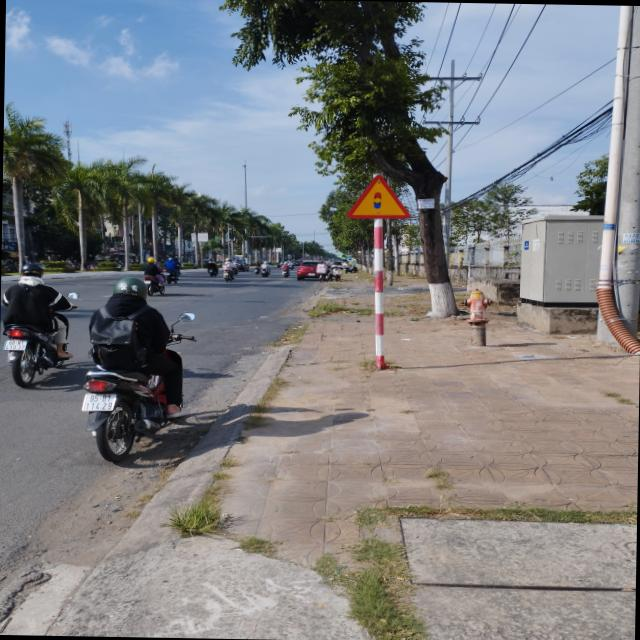Duong_Co_Go_Giam_Toc: (344, 174, 410, 219)
